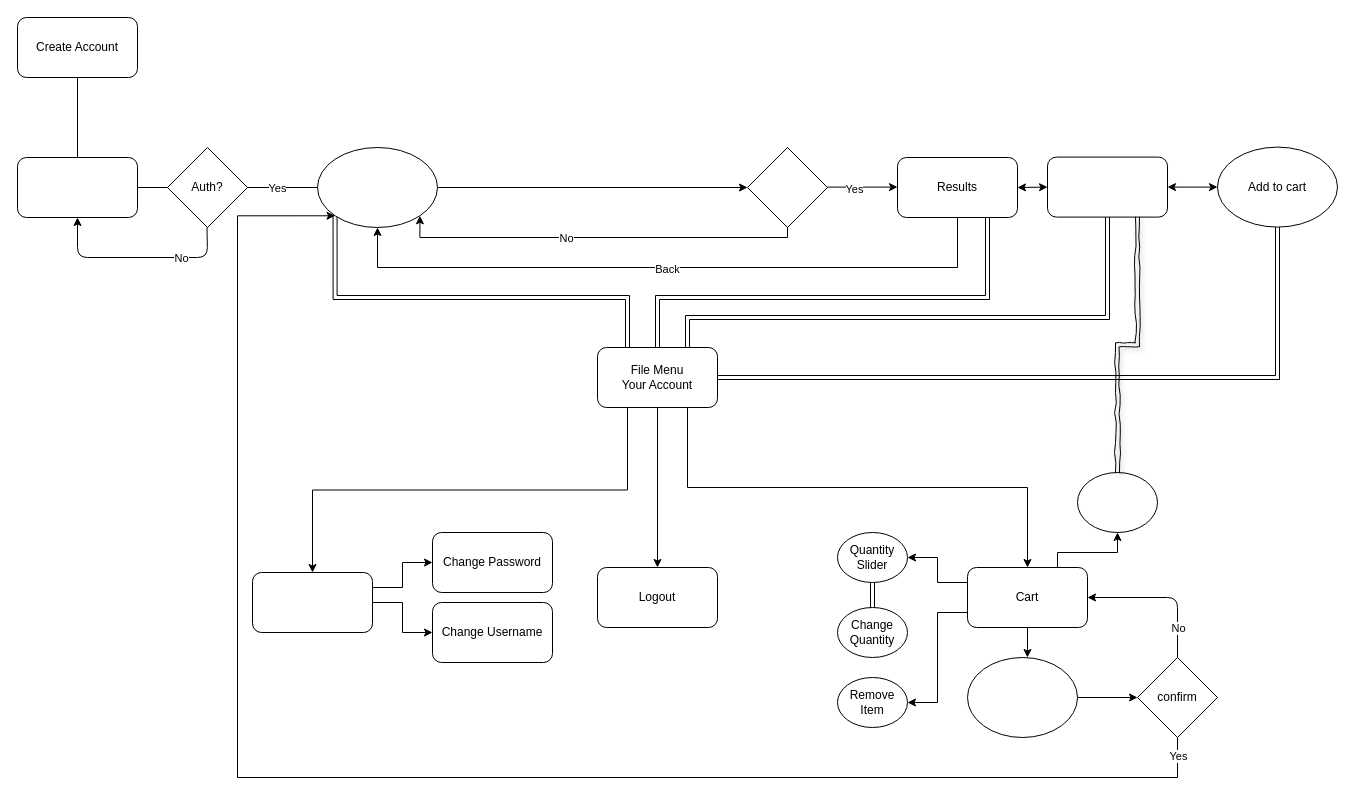
Image size: 1355x803. Some labels were removed from this diagram. The shapes that lost their labels are listed below. From the top down, each one's centre as x and y in pixels, then its label:
At [77,187]: "Login".
At [377,187]: "Search".
At [787,187]: "Results Found?".
At [1107,186]: "Product Info".
At [1117,502]: "Visit Product Page".
At [312,602]: "Settings".
At [1022,697]: "Checkout".
